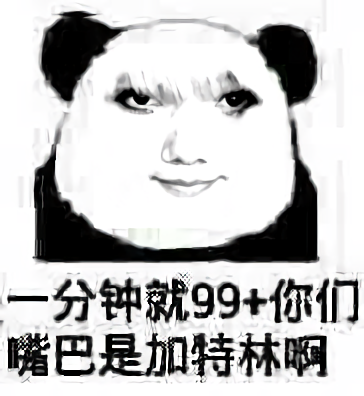dragon: (105, 71, 265, 203)
